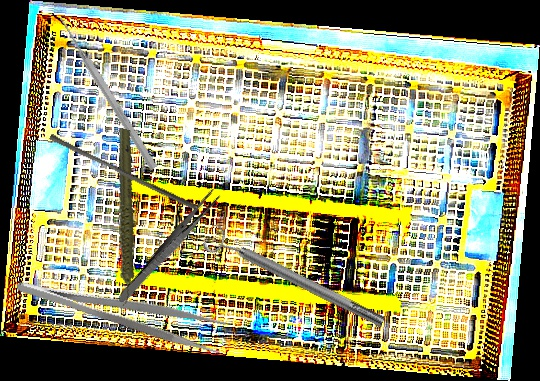Dressing Forceps: (12, 259, 231, 358), (115, 187, 223, 307)
Fixation Ring: (200, 220, 390, 338)
Handpiece: (79, 127, 168, 308)
Pusher: (55, 14, 160, 172), (46, 133, 200, 211)
